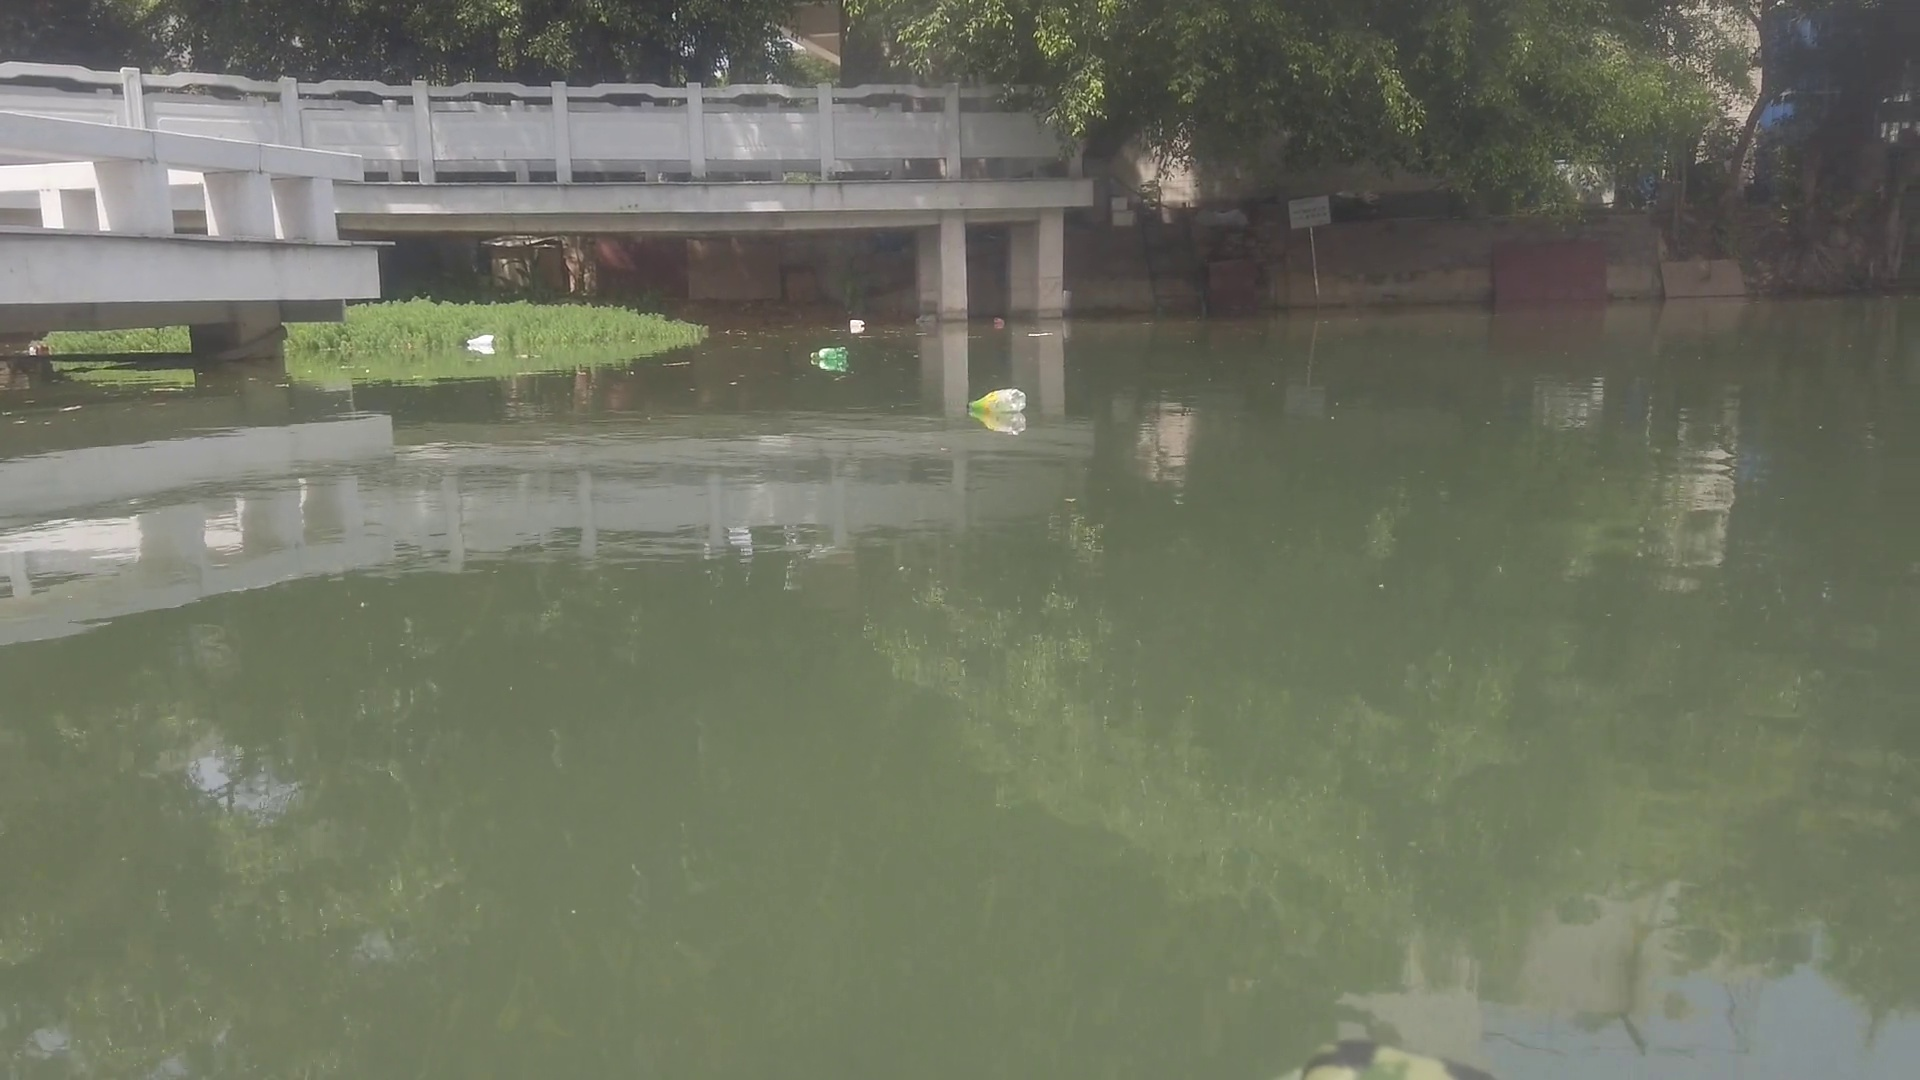bottle: (964, 382, 1033, 421), (808, 345, 851, 364), (990, 314, 1007, 326)
carton: (847, 316, 869, 328)
paper: (1027, 326, 1056, 344)
plastic: (465, 334, 497, 343)
